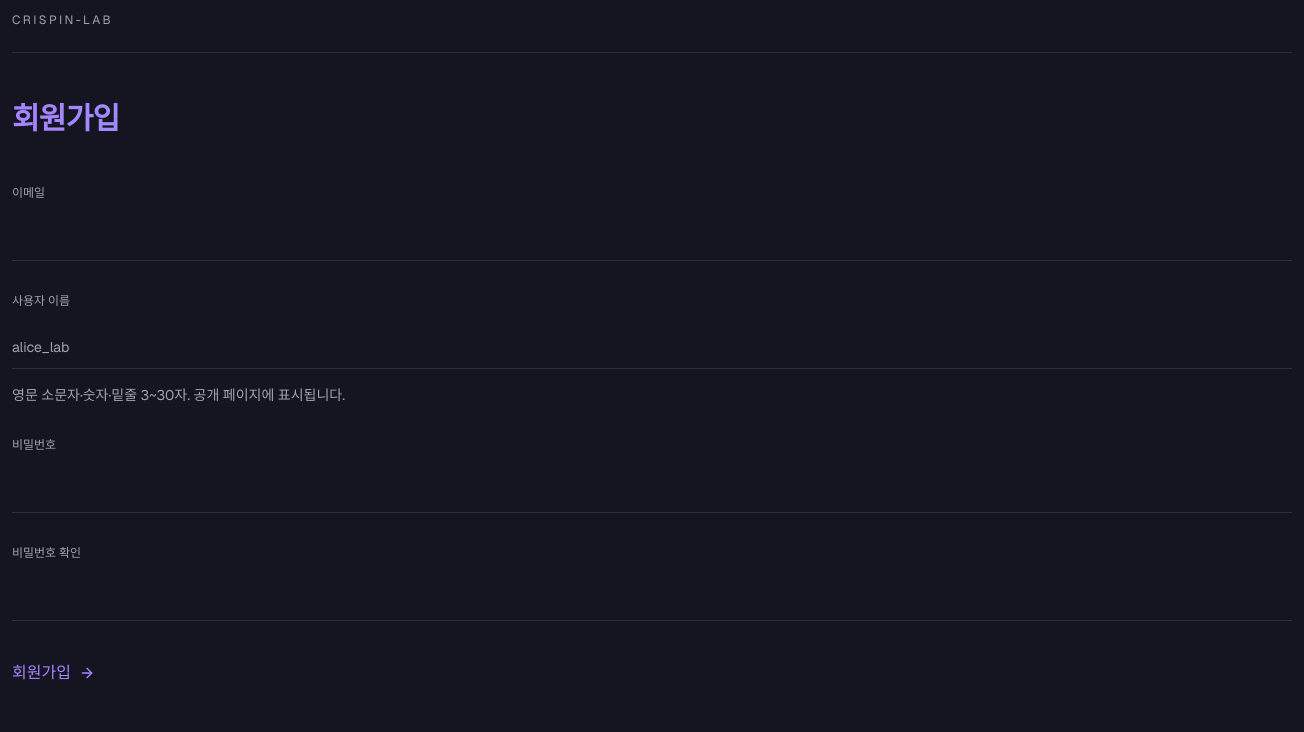
Test case: SignupForm › 비밀번호 확인이 비어 있으면 FormMessage 노출 + submit 막힘
This screenshot has width=1304, height=732.
In the field labelled "이메일": (652, 239) left=12, top=217, right=1292, bottom=261, type "a@b.com"
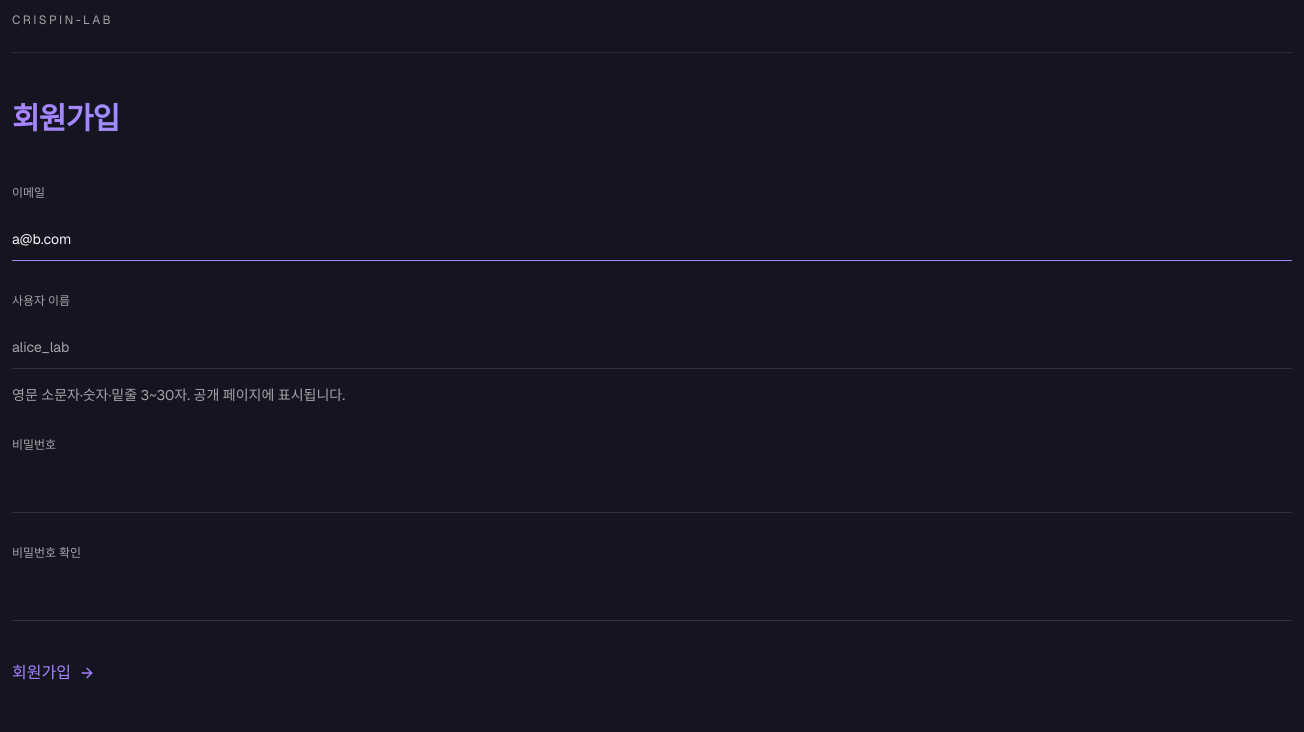
In the field labelled "사용자 이름": (652, 347) left=12, top=325, right=1292, bottom=369, type "alice"
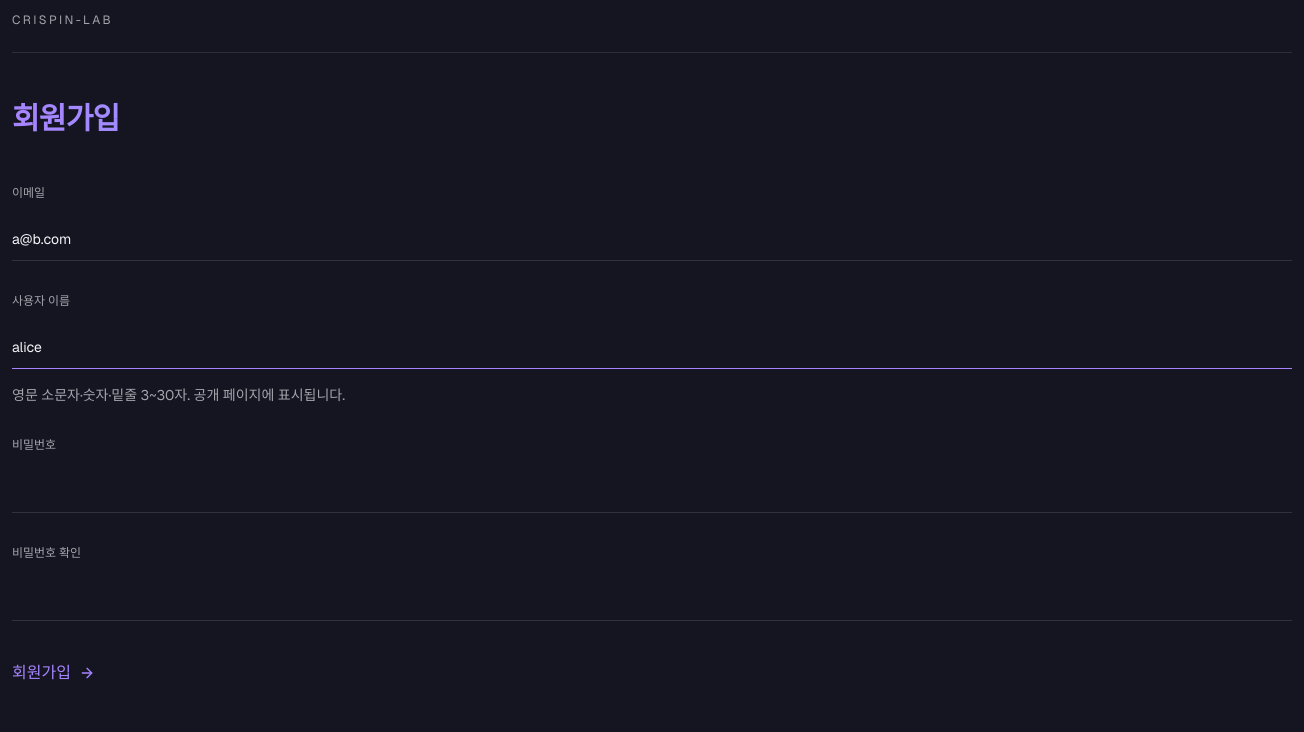
In the password field labelled "비밀번호": (652, 491) left=12, top=469, right=1292, bottom=513, type "password1"
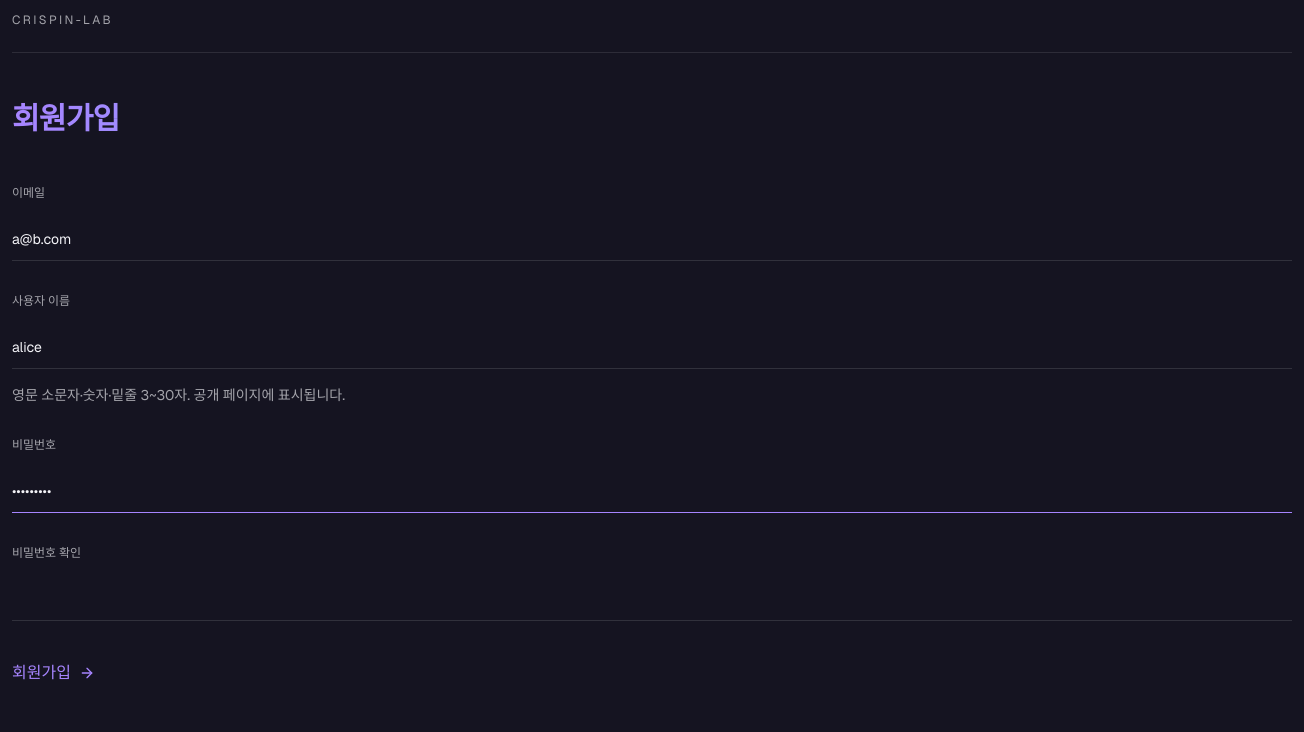
Click the button "회원가입": (53, 673) left=12, top=661, right=95, bottom=685
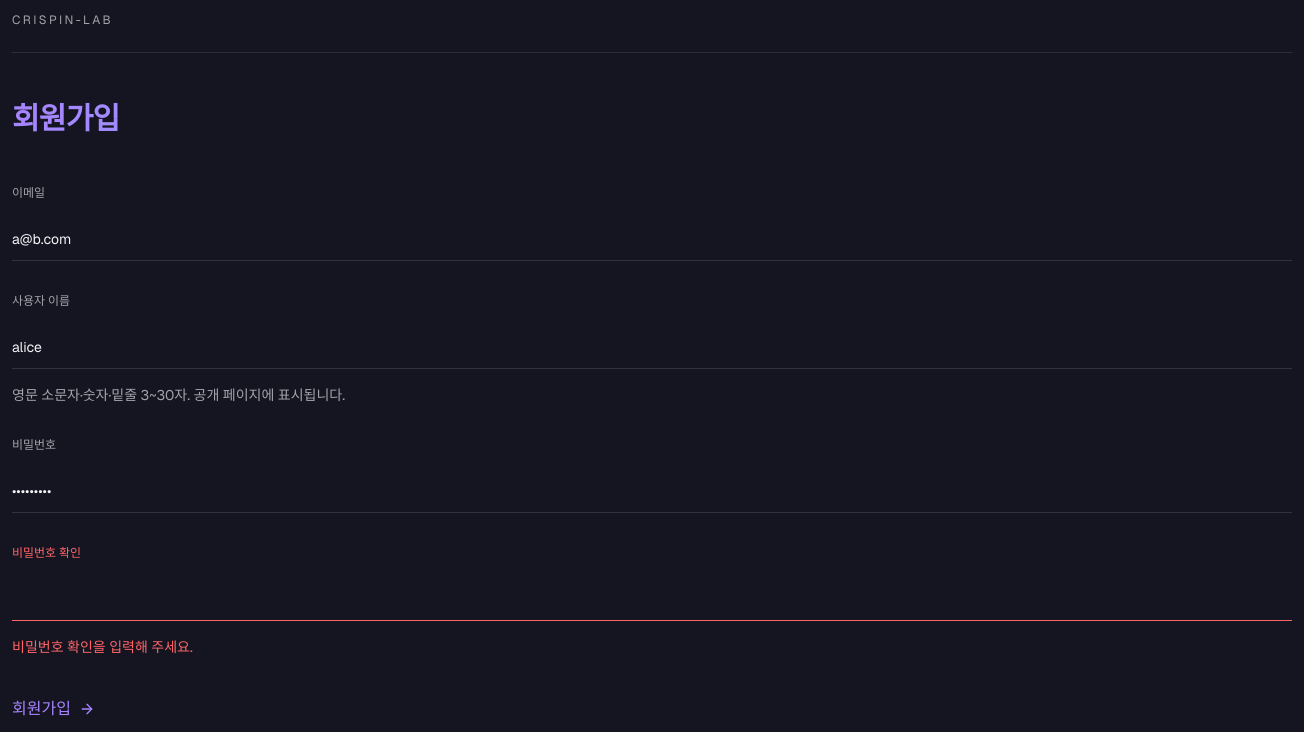
Result: the text "비밀번호 확인을 입력해 주세요." is shown at left=12, top=638, right=193, bottom=656
